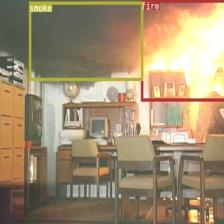fire: (140, 0, 224, 101)
smoke: (28, 1, 143, 80)
